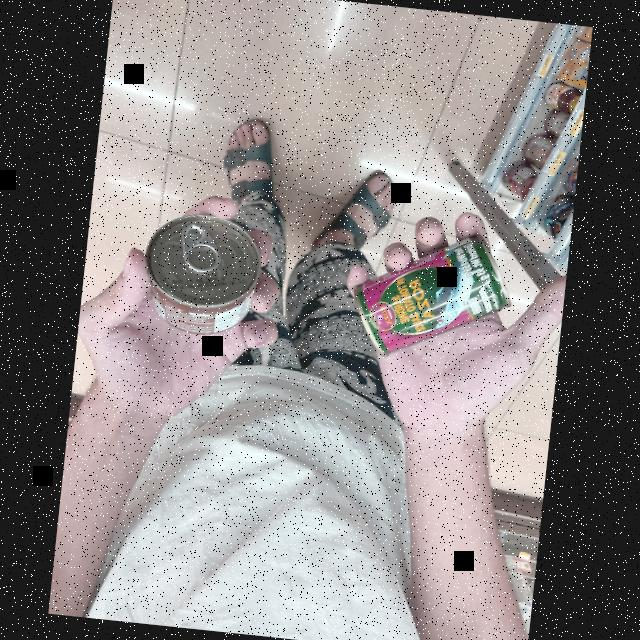can: (322, 230, 530, 376), (129, 196, 281, 354)
